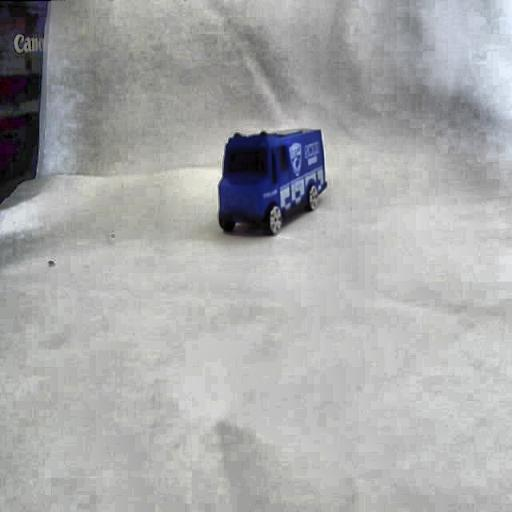police car: (218, 132, 333, 233)
